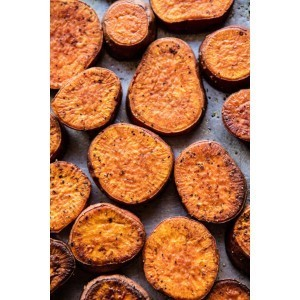sweet potato_brain food: (70, 50, 223, 223)
